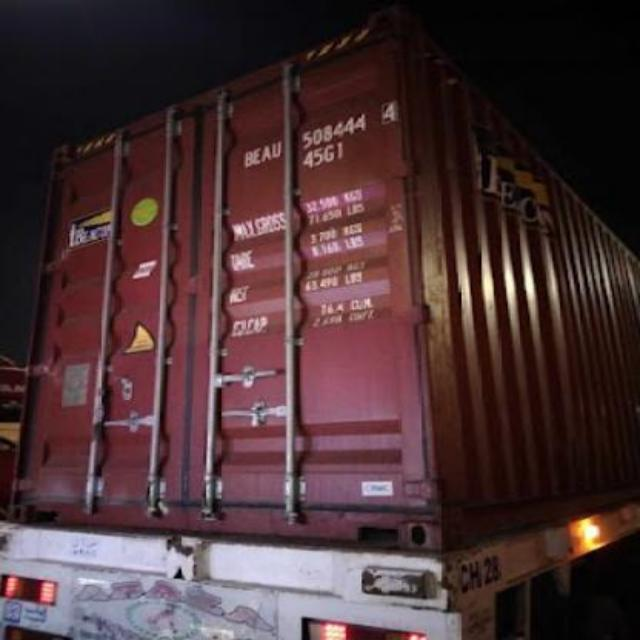0: (313, 128, 323, 146)
4: (380, 102, 398, 124), (354, 112, 366, 134), (342, 118, 354, 136), (333, 121, 343, 139)
5: (301, 130, 313, 150)
8: (323, 123, 333, 143)
A: (260, 144, 272, 164)
B: (244, 152, 254, 168)
E: (252, 146, 260, 168)
U: (271, 142, 283, 160)
